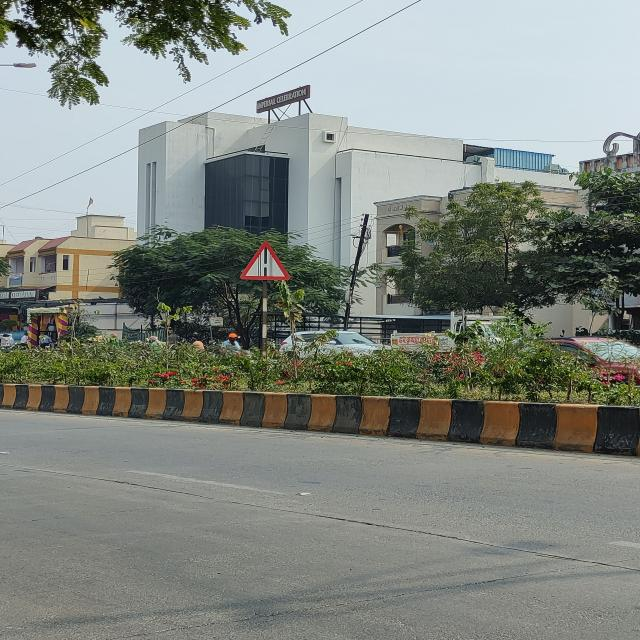GAP_IN_MEDIAN: (240, 242, 292, 282)
